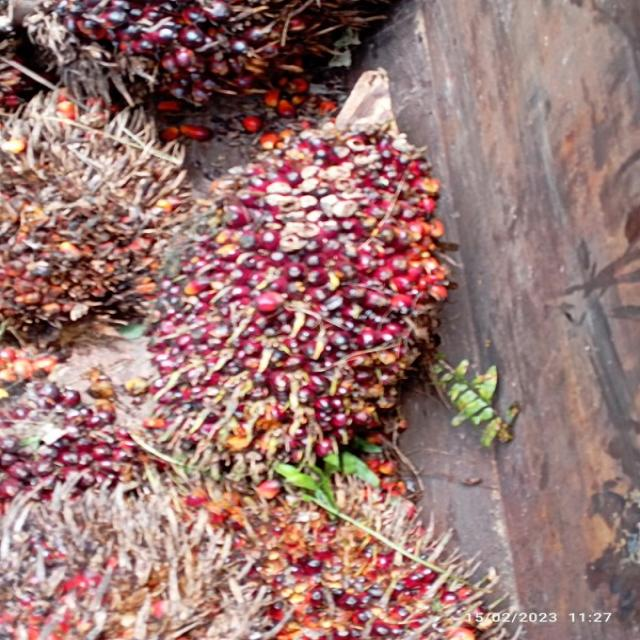fraksi 1: (136, 77, 524, 483)
